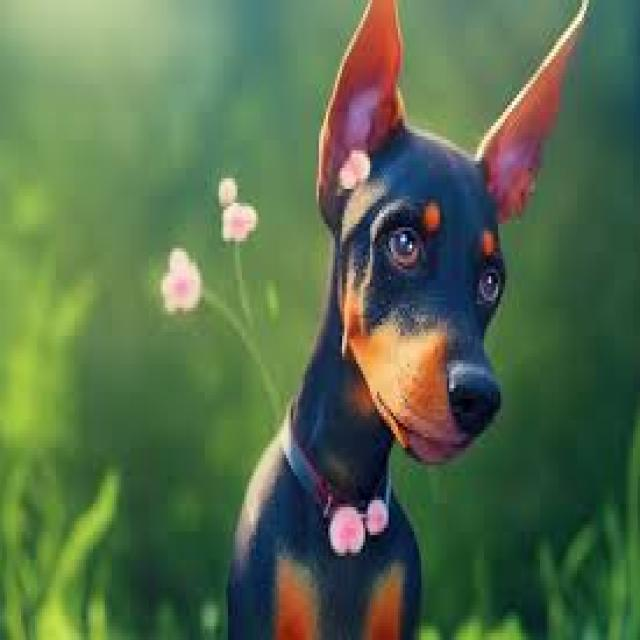Dog: (223, 1, 597, 640)
